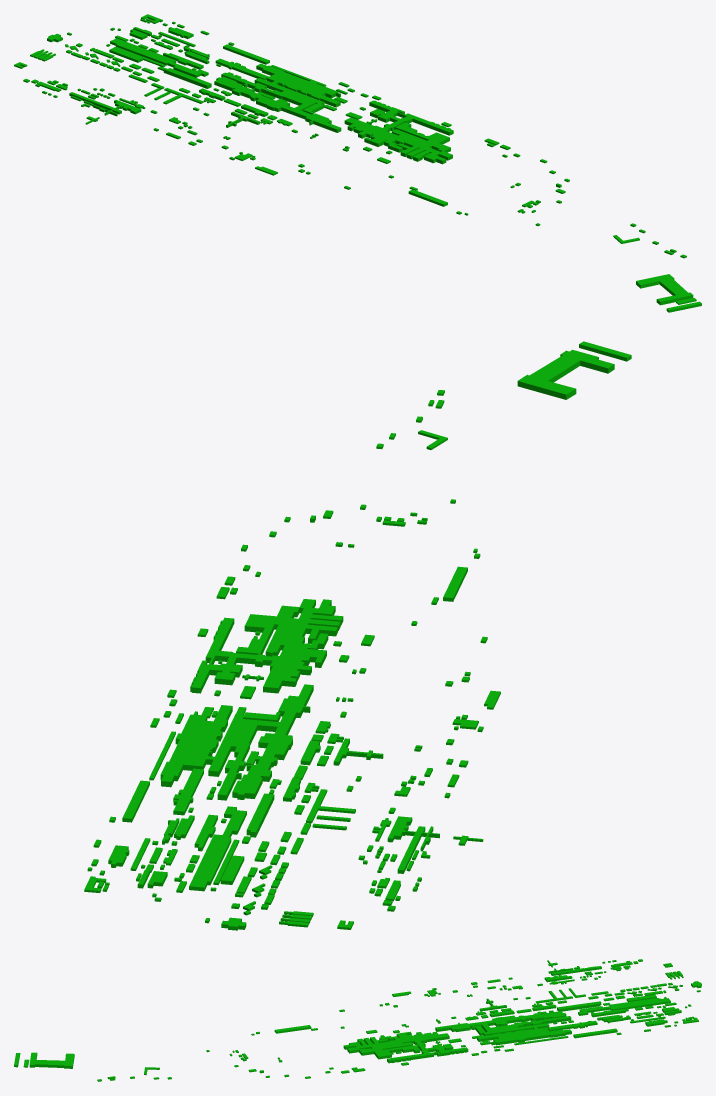
3 views of the same model, one above another, from view 1: azimuth 30°, elevation 25°; view 2: azimuth 150°, elevation 25°; view 3: azimuth 270°, elevation 25° (orthographic). The views are drawn at different scales.
Visible parts, largest first — view 1: 1930.004; view 2: 1930.004; view 3: 1930.004.
Boxes of the visible parts, left/top/right/bottom form: 1930.004: left=14, top=14, right=701, bottom=312; 1930.004: left=84, top=341, right=631, bottom=930; 1930.004: left=14, top=959, right=701, bottom=1081.
Bounding box in the file's own units: 1479 × 17.41 × 3533.
